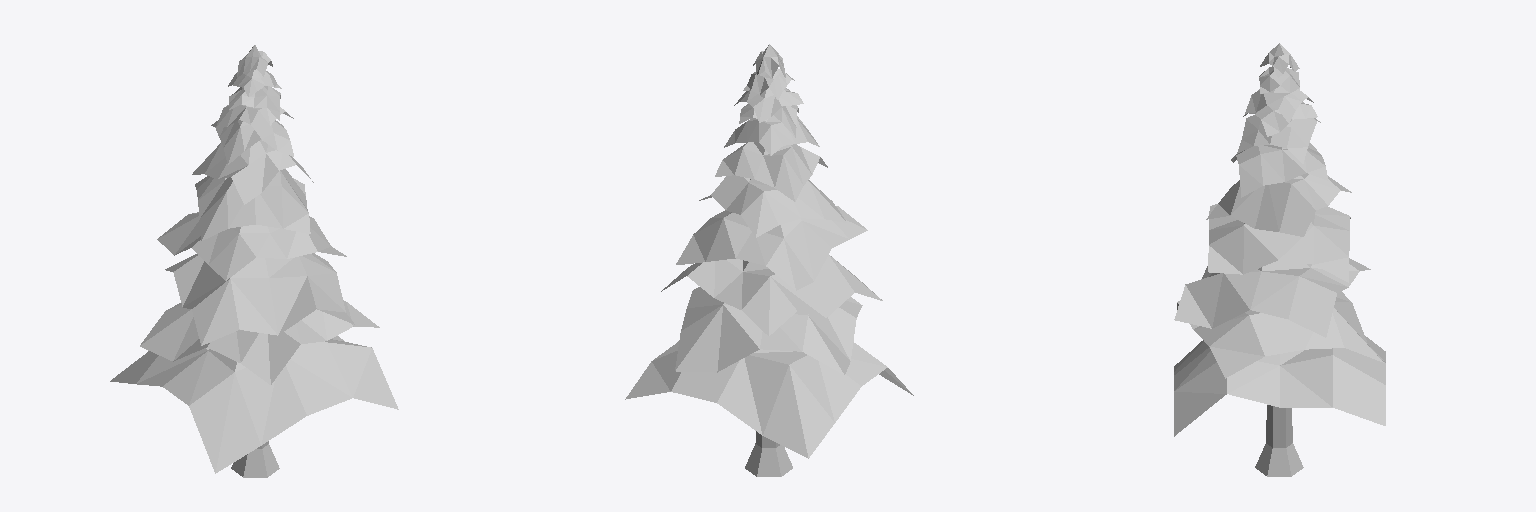
File: pine.obj
3 renders of one model, left to right at view 1: azimuth 30°, elevation 25°; view 2: azimuth 150°, elevation 25°; view 3: azimuth 270°, elevation 25°, orthographic.
Parts seen in each view (by area): view 1: Pine; view 2: Pine; view 3: Pine.
Boxes of the visible parts, <box> form: Pine: <box>110,45,398,477</box>; Pine: <box>625,44,913,476</box>; Pine: <box>1174,43,1385,476</box>.
Size of the model in its own units: 9.13 by 19.12 by 8.66.